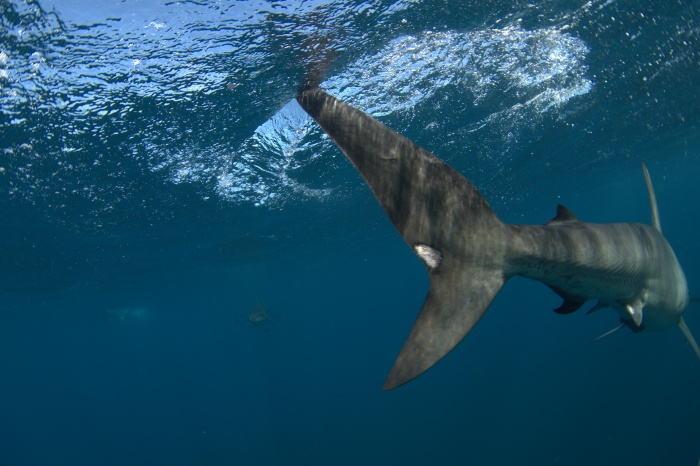Hammer: (277, 65, 700, 400)
